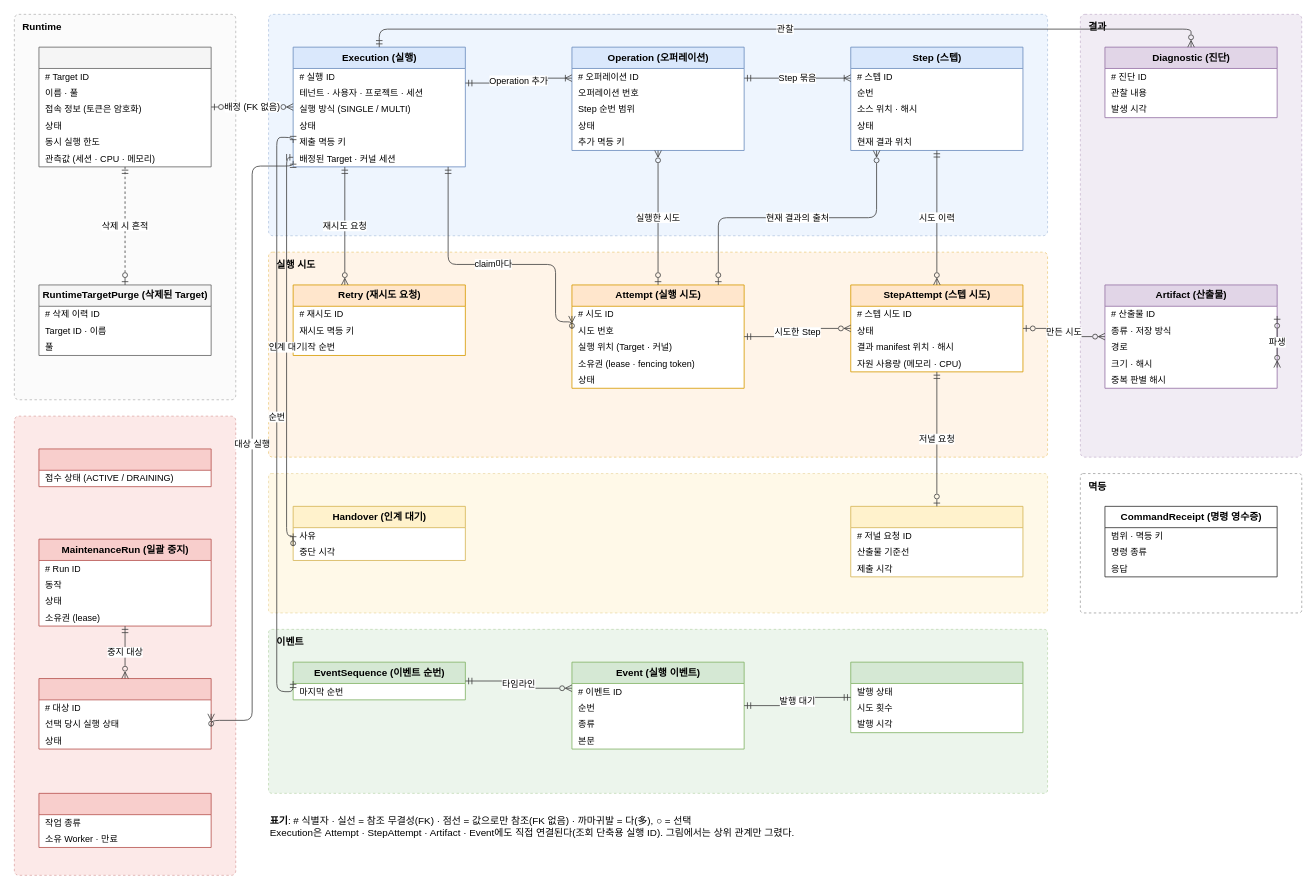
Some shapes in this 1316 by 890 pixel diagram are drawn without their labels. The box of each missing label's shape, as (x1, y1, x2, y2) in pixels:
BackgroundPassLease (주기 작업): (38, 793, 211, 847)
ExecutorMaintenance (접수 상태): (38, 448, 211, 487)
MaintenanceRunTarget (중지 대상): (38, 678, 211, 749)
Outbox (발행 대기열): (850, 661, 1023, 733)
RuntimeTarget (Jupyter 서버): (38, 46, 211, 167)
StepRun (스텝 저널 요청): (850, 506, 1023, 577)
실행 요청: (268, 14, 1048, 236)
운영: (14, 415, 236, 875)
인계: (268, 473, 1048, 613)
